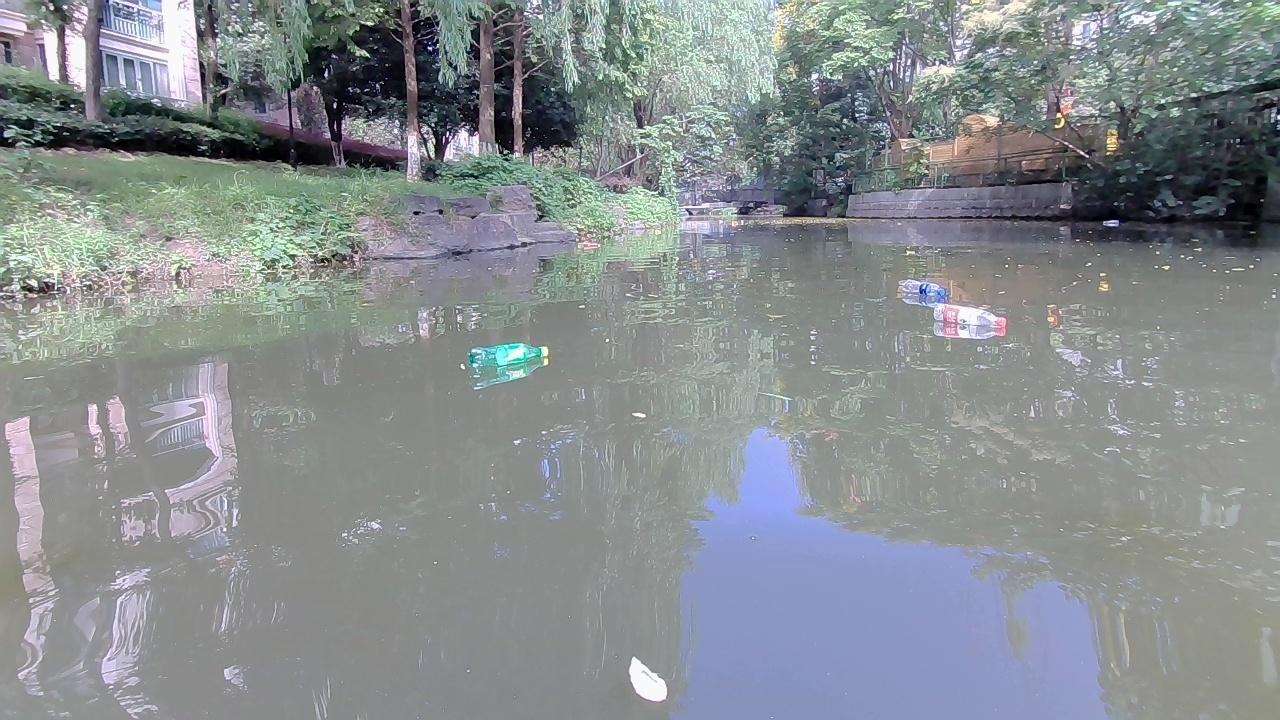bottle: (931, 304, 1012, 334), (461, 344, 556, 368), (892, 277, 948, 302), (574, 240, 603, 249), (1103, 218, 1121, 227)
